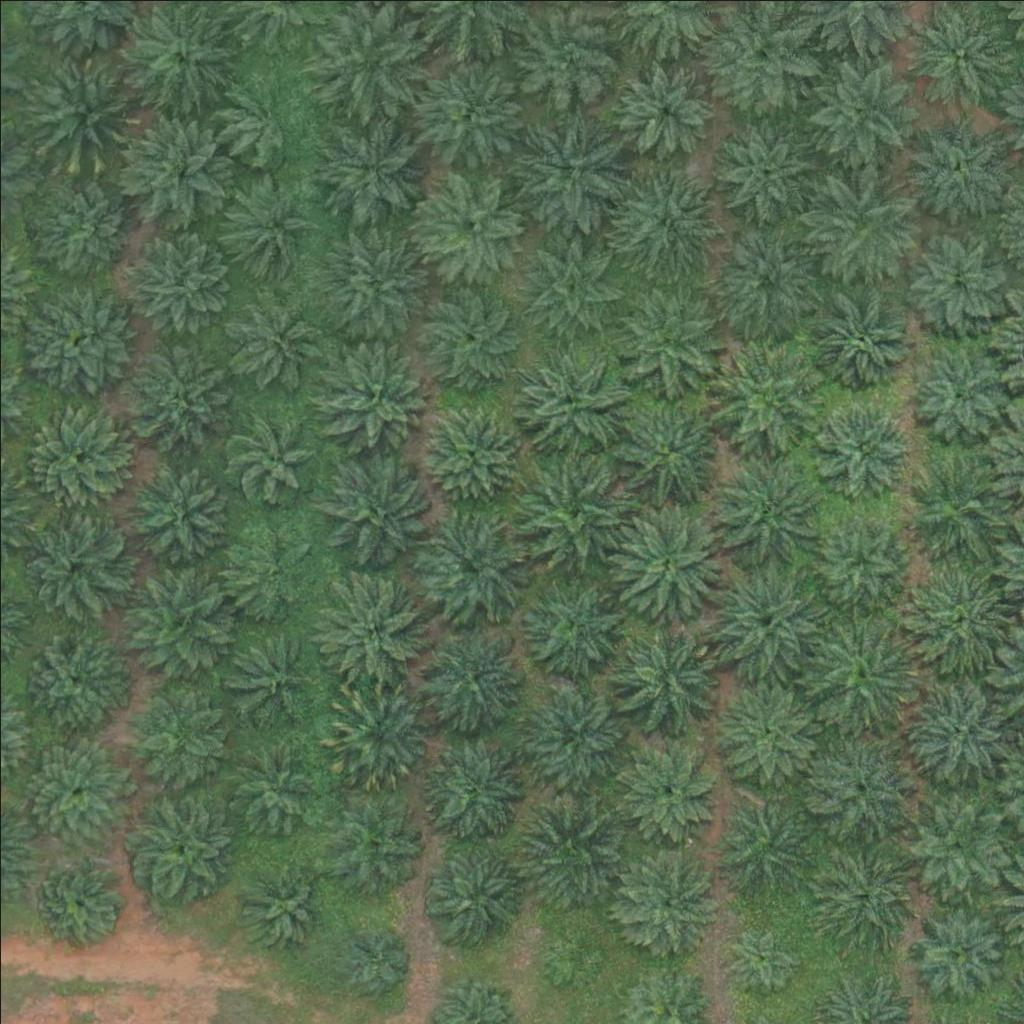Kelapa_Sawit: (707, 456, 820, 570), (609, 280, 722, 394), (18, 732, 131, 846), (14, 620, 127, 734), (414, 54, 527, 168), (516, 225, 629, 339), (514, 115, 627, 229), (606, 160, 719, 274), (320, 677, 433, 790), (417, 836, 530, 949), (803, 624, 916, 737), (706, 564, 819, 677), (612, 503, 725, 616), (610, 394, 723, 507), (316, 573, 429, 686), (321, 456, 434, 569), (317, 334, 430, 447), (119, 226, 232, 339), (117, 112, 230, 225), (802, 51, 915, 164), (904, 2, 1017, 115), (905, 671, 1017, 785), (897, 563, 1009, 677), (707, 331, 819, 445), (314, 4, 426, 118), (417, 728, 529, 841), (516, 799, 628, 912), (518, 677, 630, 790), (806, 727, 918, 840), (900, 449, 1012, 562), (711, 223, 823, 336), (610, 623, 722, 736), (520, 570, 632, 683), (521, 454, 633, 567), (513, 340, 625, 453), (418, 507, 530, 620), (414, 283, 526, 396), (315, 226, 427, 339), (117, 563, 229, 676), (119, 455, 231, 568), (15, 506, 127, 619), (16, 282, 128, 395), (25, 166, 137, 279), (26, 51, 138, 164), (316, 111, 428, 224), (416, 168, 528, 281), (808, 169, 920, 282), (325, 792, 425, 893), (620, 853, 720, 954), (620, 742, 720, 843), (713, 797, 813, 898), (715, 681, 815, 782), (818, 841, 918, 942), (905, 897, 1005, 998), (905, 794, 1005, 895), (908, 344, 1008, 445), (906, 225, 1006, 326), (806, 283, 906, 384), (424, 627, 524, 728), (421, 404, 521, 505), (123, 343, 223, 444), (25, 407, 125, 508), (218, 177, 318, 278), (614, 59, 714, 160), (712, 118, 812, 219), (906, 121, 1006, 222), (811, 397, 911, 497), (132, 794, 232, 894), (119, 684, 219, 784), (237, 861, 325, 949), (817, 512, 905, 600), (226, 631, 314, 719), (221, 73, 309, 161), (222, 741, 309, 829), (223, 527, 310, 615), (228, 413, 315, 501), (227, 297, 314, 385), (37, 858, 124, 946), (727, 917, 802, 992), (344, 928, 407, 991), (543, 925, 605, 988)
